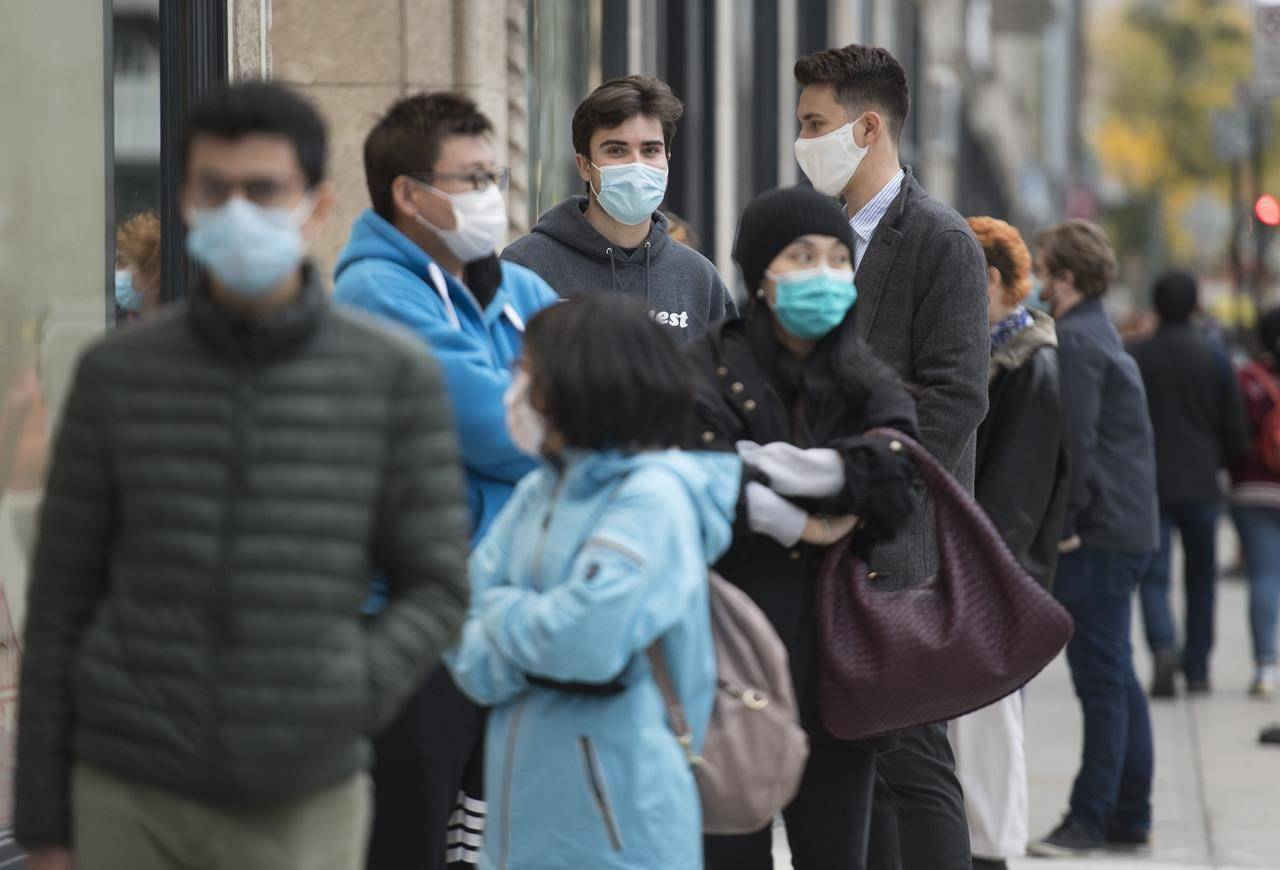with_mask: (193, 146, 289, 289), (413, 135, 503, 256), (771, 223, 845, 318), (506, 336, 562, 459), (604, 126, 657, 224), (802, 94, 856, 179), (111, 234, 162, 309)
